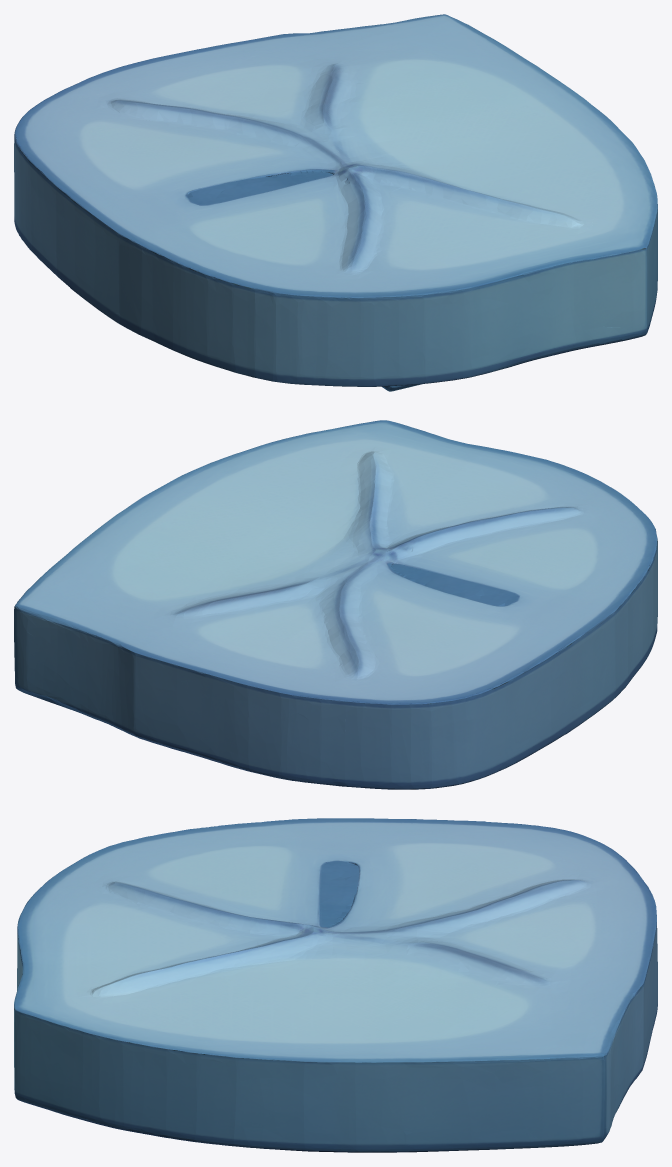
3 renders of one model, top to bottom at view 1: azimuth 30°, elevation 25°; view 2: azimuth 150°, elevation 25°; view 3: azimuth 270°, elevation 25°, orthographic. The views are drawn at different scales.
Parts seen in each view (by area): view 1: geometry_0; view 2: geometry_0; view 3: geometry_0.
Part boxes in pixels (x1=…): geometry_0: x1=14, y1=14, x2=657, y2=391; geometry_0: x1=14, y1=420, x2=657, y2=789; geometry_0: x1=14, y1=818, x2=657, y2=1152.
Size of the model in its own units: 0.8784 by 0.2945 by 0.9849.
Materials: 1 (1 with a texture image).
